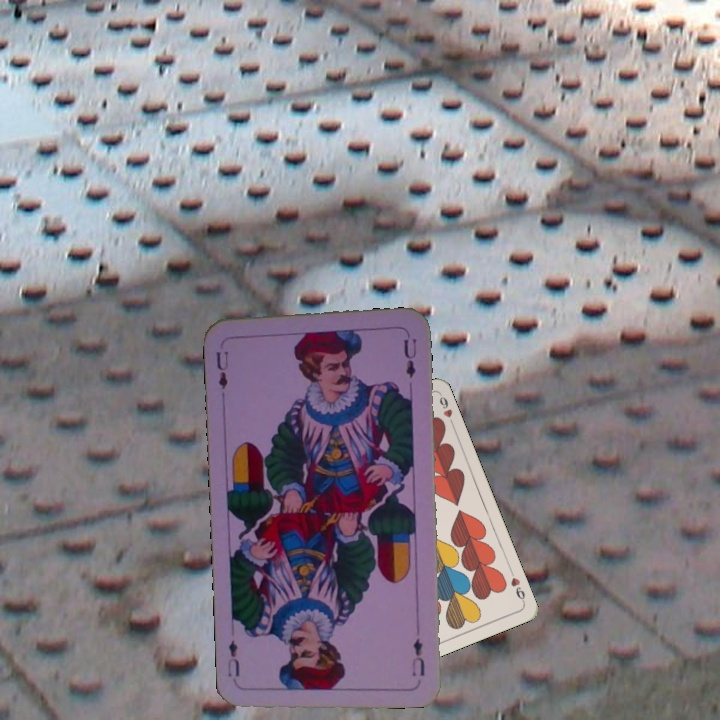EU: (408, 634, 428, 679), (212, 347, 231, 392)
H9: (506, 567, 528, 606)
